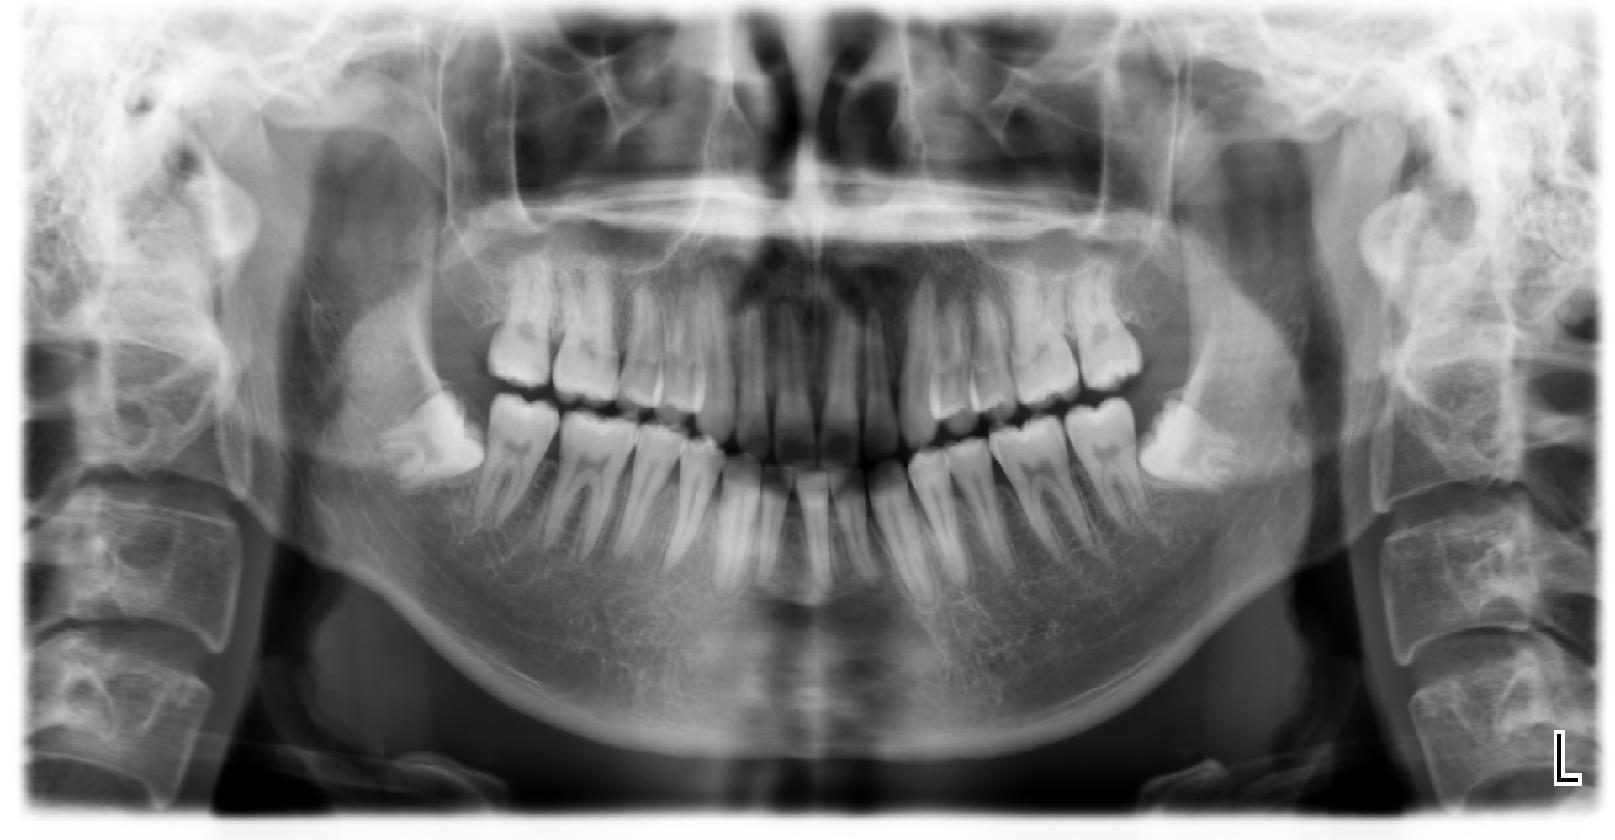Mesio-angular: (374, 382, 491, 500), (1134, 395, 1261, 499)
